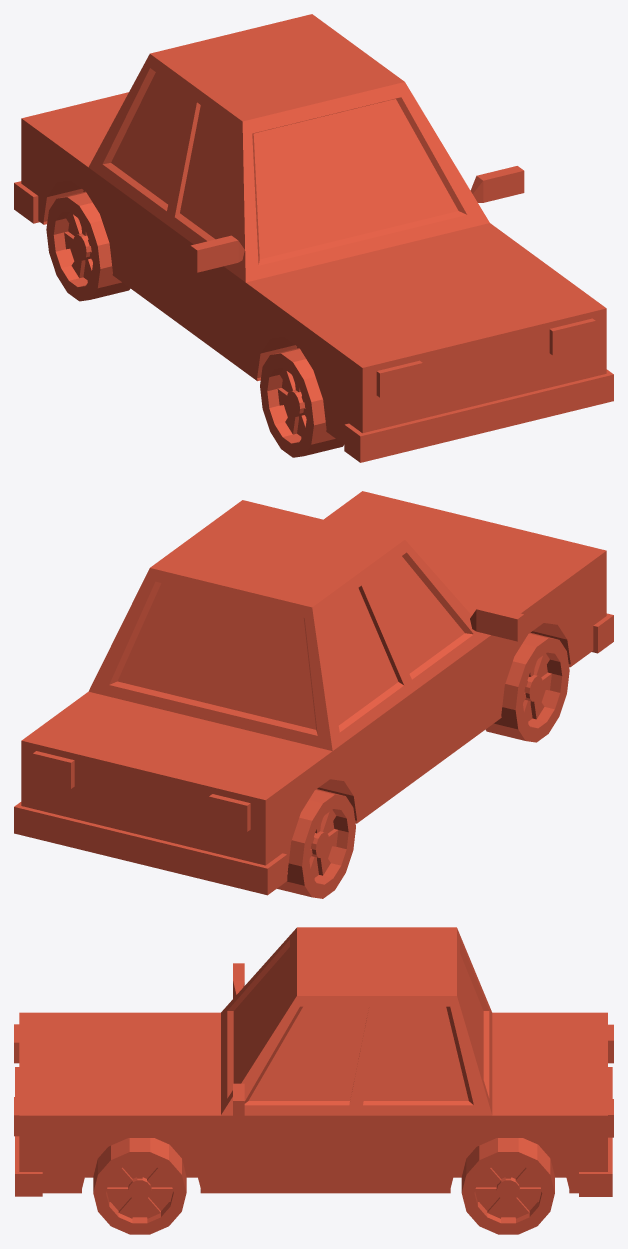
The model's file is car.fbx.
3 views of the same model, one above another, from view 1: azimuth 30°, elevation 25°; view 2: azimuth 150°, elevation 25°; view 3: azimuth 270°, elevation 25° (orthographic). The views are drawn at different scales.
Parts seen in each view (by area): view 1: Cube; view 2: Cube; view 3: Cube.
Boxes of the visible parts, <box> form: Cube: <box>14,14,613,462</box>; Cube: <box>14,491,613,898</box>; Cube: <box>14,927,613,1234</box>.
Bounding box in the file's own units: 268 × 199 × 493.
